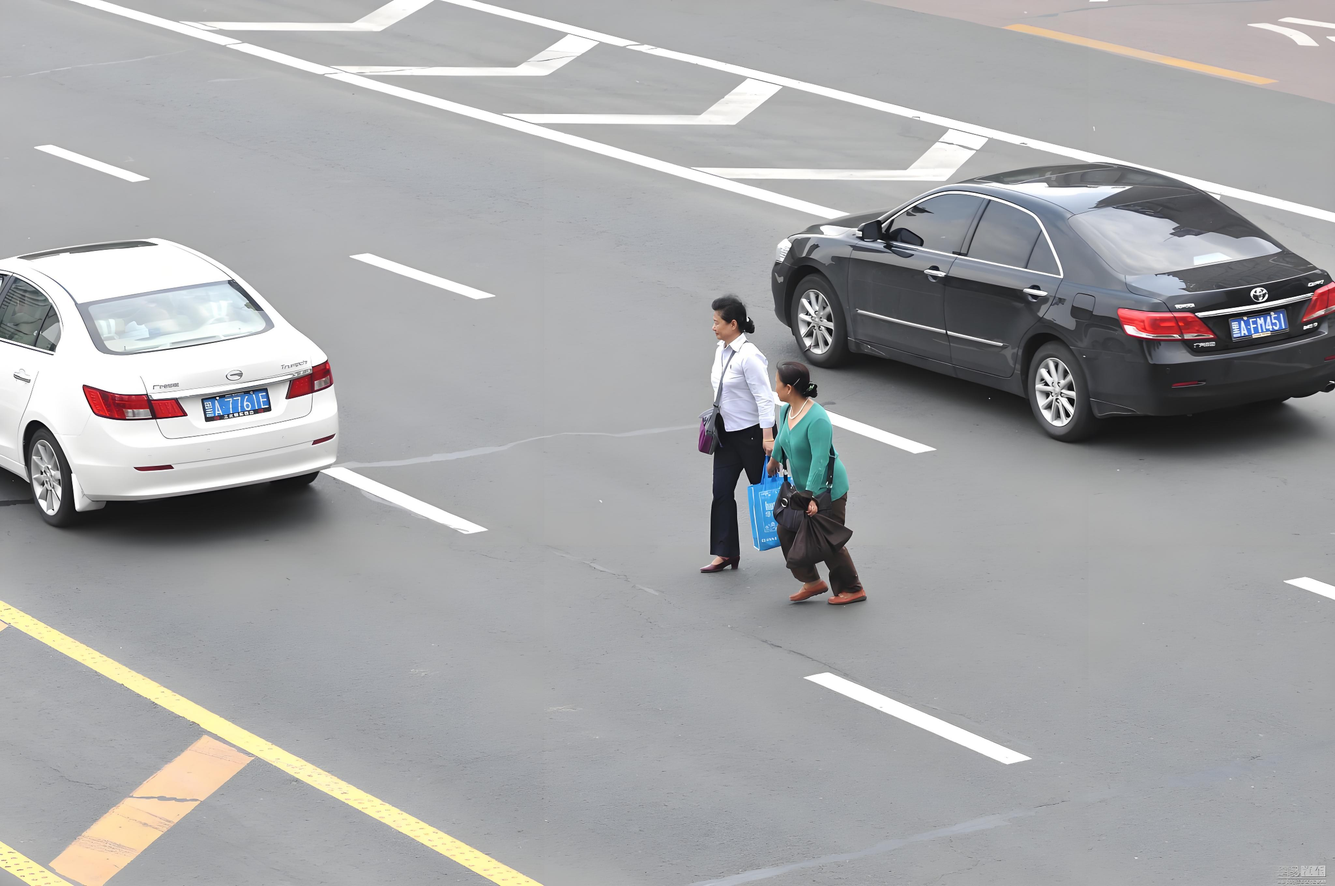car: (751, 158, 1335, 446), (0, 231, 352, 523)
person: (688, 306, 780, 605), (762, 370, 865, 619)
